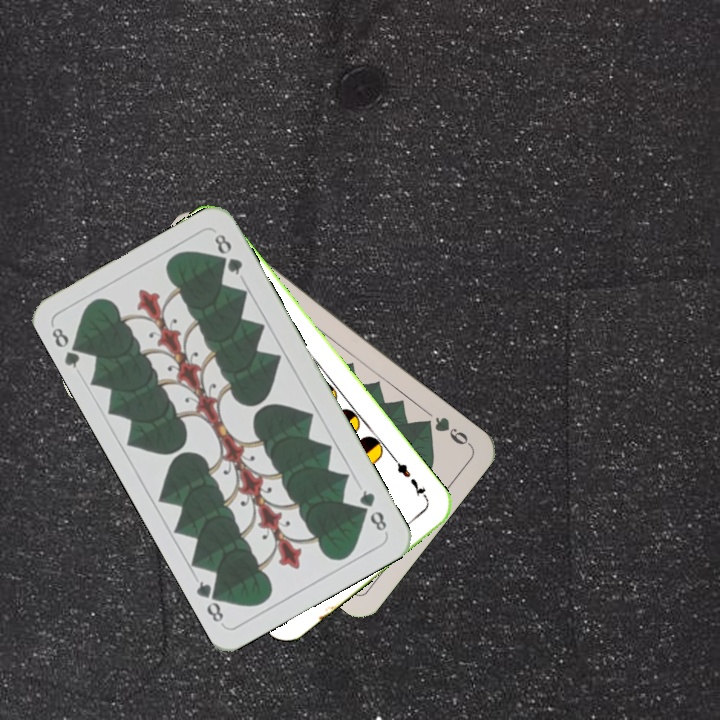E7: (389, 453, 431, 503)
G8: (47, 323, 88, 371), (355, 485, 390, 536)
G9: (417, 412, 474, 449)
